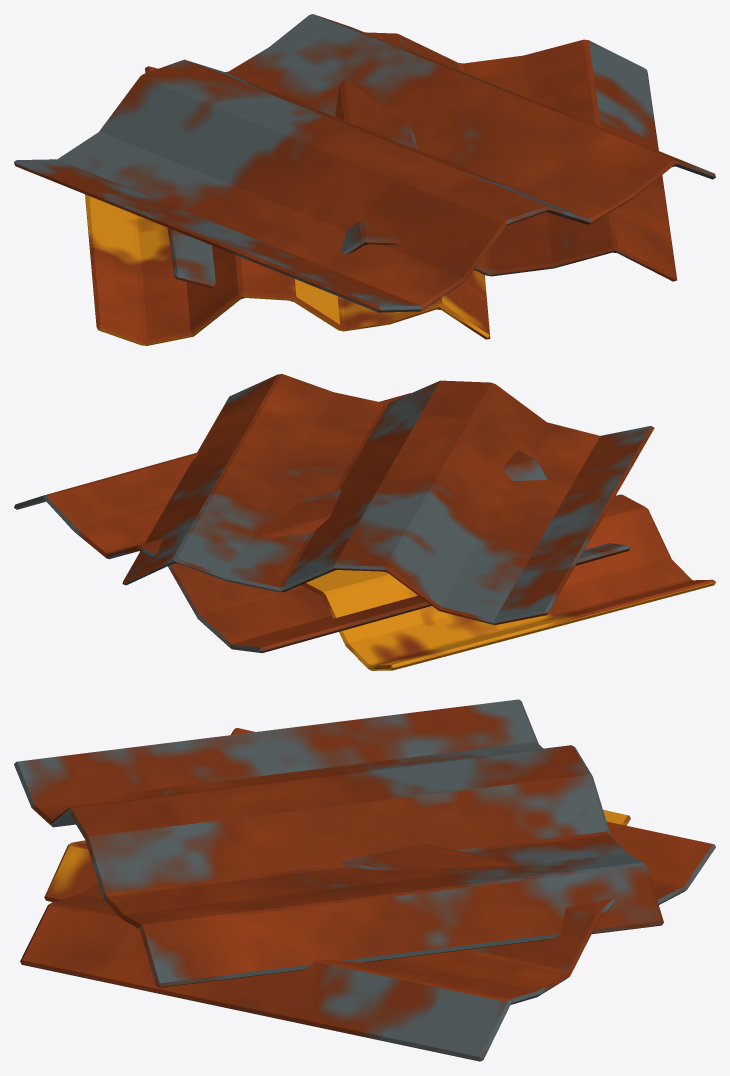
The model's file is sheets-3.glb.
The picture shows the model from 3 angles, top to bottom: view 1: azimuth 30°, elevation 25°; view 2: azimuth 150°, elevation 25°; view 3: azimuth 270°, elevation 25°; orthographic projection. The views are drawn at different scales.
Parts seen in each view (by area): view 1: sheets-3; view 2: sheets-3; view 3: sheets-3.
Boxes of the visible parts, bbox=[...] form: sheets-3: bbox=[14, 14, 715, 345]; sheets-3: bbox=[14, 374, 715, 670]; sheets-3: bbox=[14, 699, 715, 1061].
Bounding box in the file's own units: 0.8428 × 0.1262 × 0.7366.
2 materials, 2 textured.
